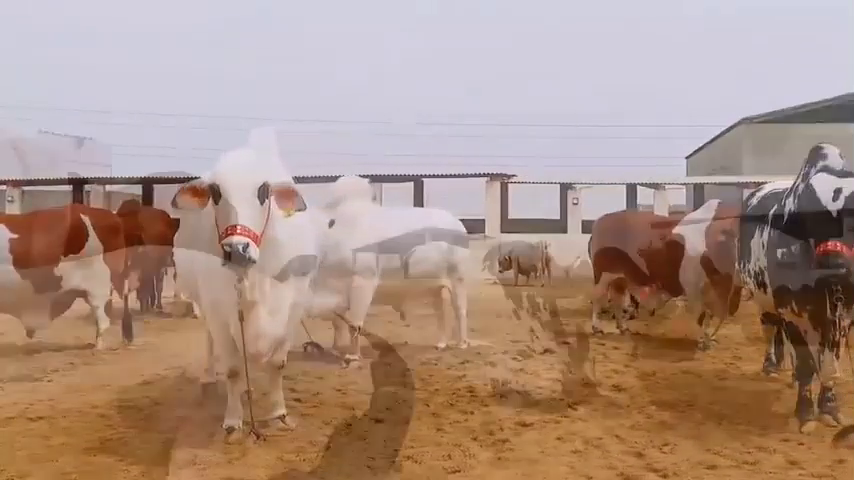bo: (185, 118, 317, 443), (727, 127, 846, 440), (302, 172, 477, 369), (584, 183, 743, 353), (3, 198, 123, 351), (115, 188, 175, 319), (488, 227, 554, 294)
